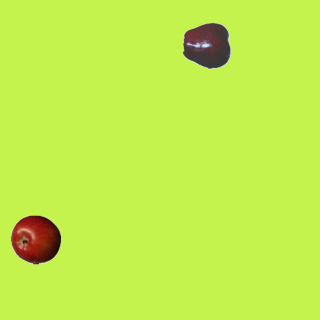Apple Braeburn: (10, 214, 60, 264)
Apple Red Delicious: (182, 20, 232, 70)
